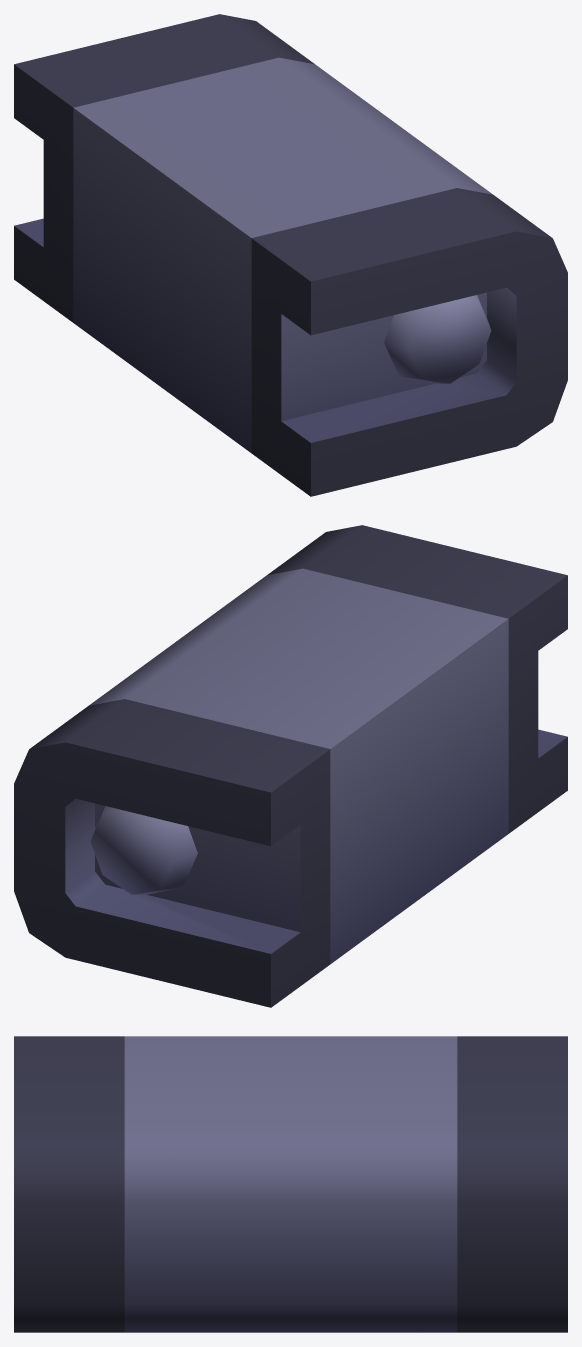
Rendered from conveyor-stripe-part-end.glb.
The picture shows the model from 3 angles, top to bottom: view 1: azimuth 30°, elevation 25°; view 2: azimuth 150°, elevation 25°; view 3: azimuth 270°, elevation 25°; orthographic projection. The views are drawn at different scales.
Visible parts, largest first — view 1: conveyor-stripe-part-end; view 2: conveyor-stripe-part-end; view 3: conveyor-stripe-part-end.
Part boxes in pixels (<box>): conveyor-stripe-part-end: <box>14,14,567,496</box>; conveyor-stripe-part-end: <box>14,525,567,1007</box>; conveyor-stripe-part-end: <box>14,1036,567,1332</box>.
Bounding box in the file's own units: 0.5 × 0.4 × 1.
